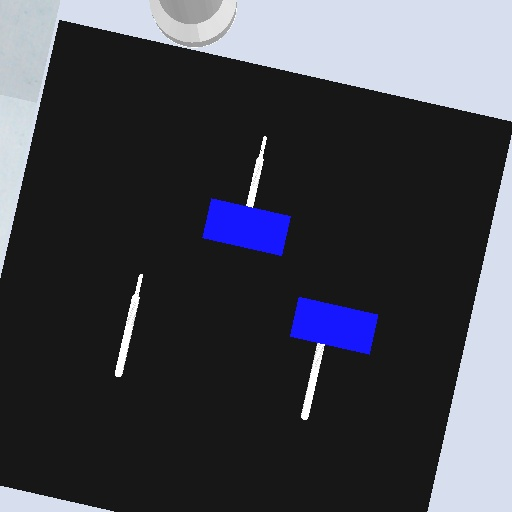bisturi: (112, 271, 150, 380), (297, 341, 327, 422), (243, 134, 273, 210)
